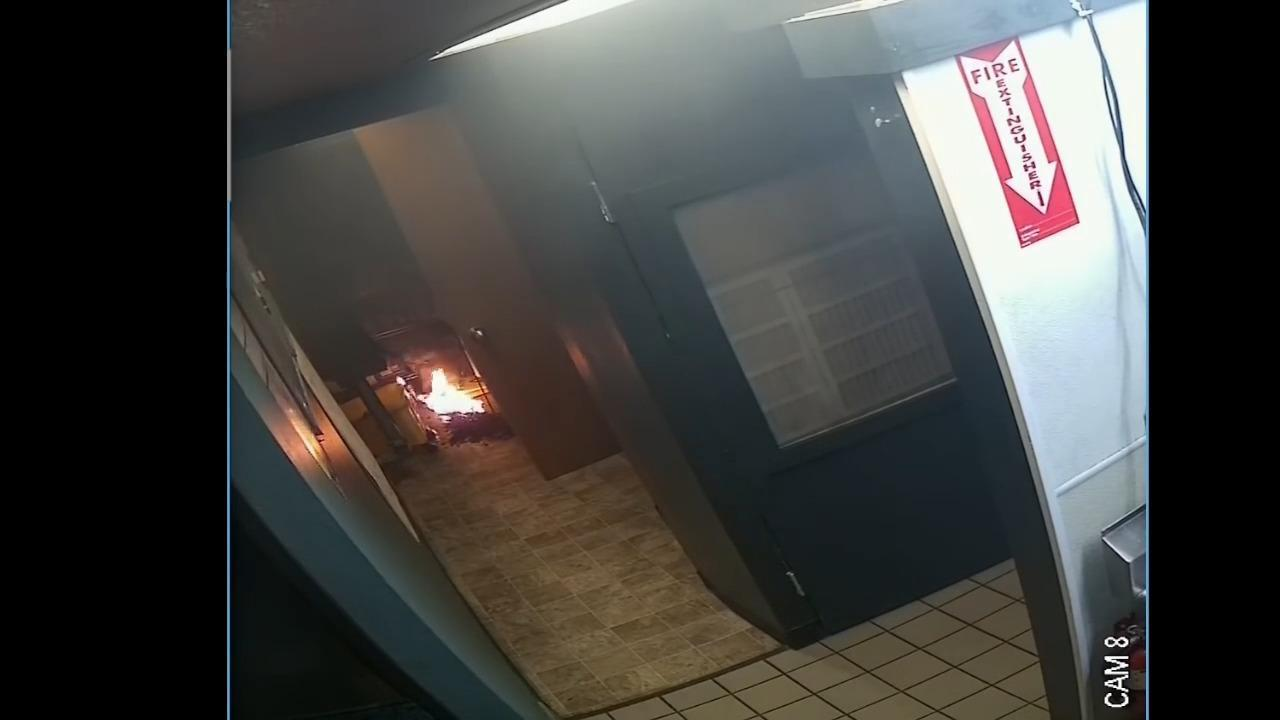fire: (416, 366, 485, 415)
